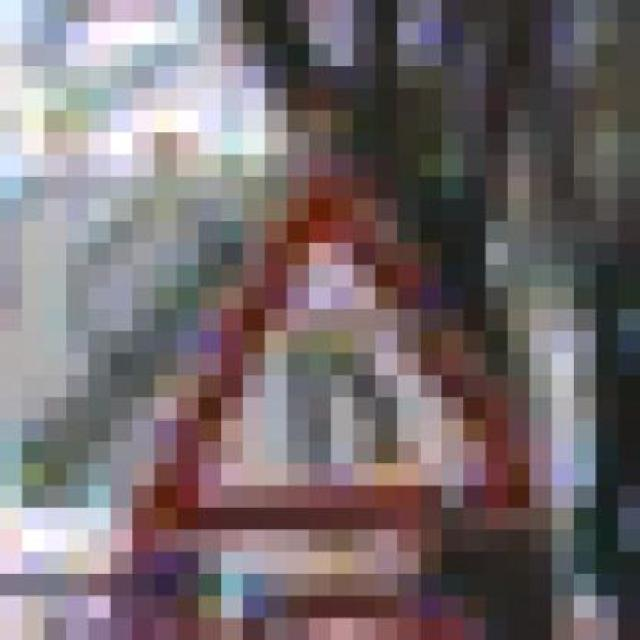-Road narrows on right: (110, 155, 552, 530)
